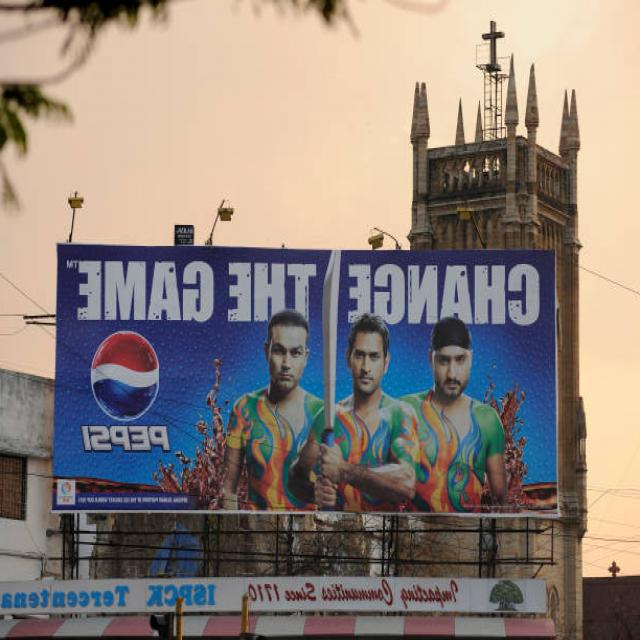Werbetafel frei: (52, 247, 558, 516)
